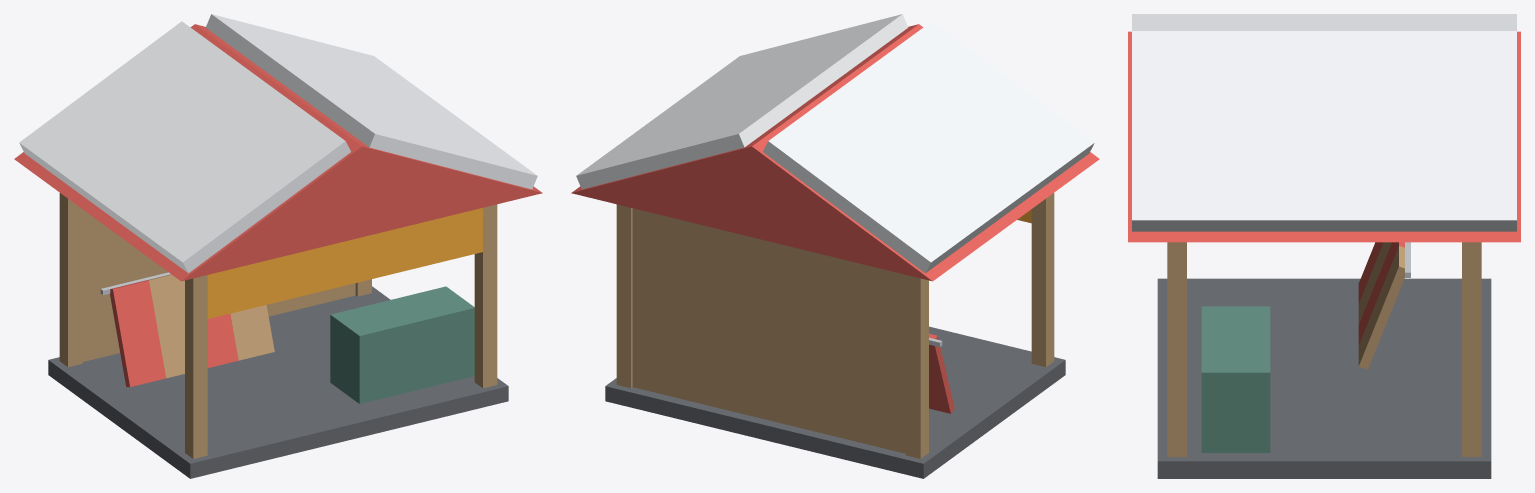
File: kiosk.glb
The picture shows the model from 3 angles, left to right: view 1: azimuth 30°, elevation 25°; view 2: azimuth 150°, elevation 25°; view 3: azimuth 270°, elevation 25°; orthographic projection. The views are drawn at different scales.
Visible parts, largest first — view 1: sled-hire-kiosk; view 2: sled-hire-kiosk; view 3: sled-hire-kiosk.
Boxes of the visible parts, bbox=[...] form: sled-hire-kiosk: bbox=[14, 14, 542, 478]; sled-hire-kiosk: bbox=[571, 14, 1099, 478]; sled-hire-kiosk: bbox=[1128, 14, 1520, 478].
Size of the model in its own units: 5 by 4.1 by 4.
